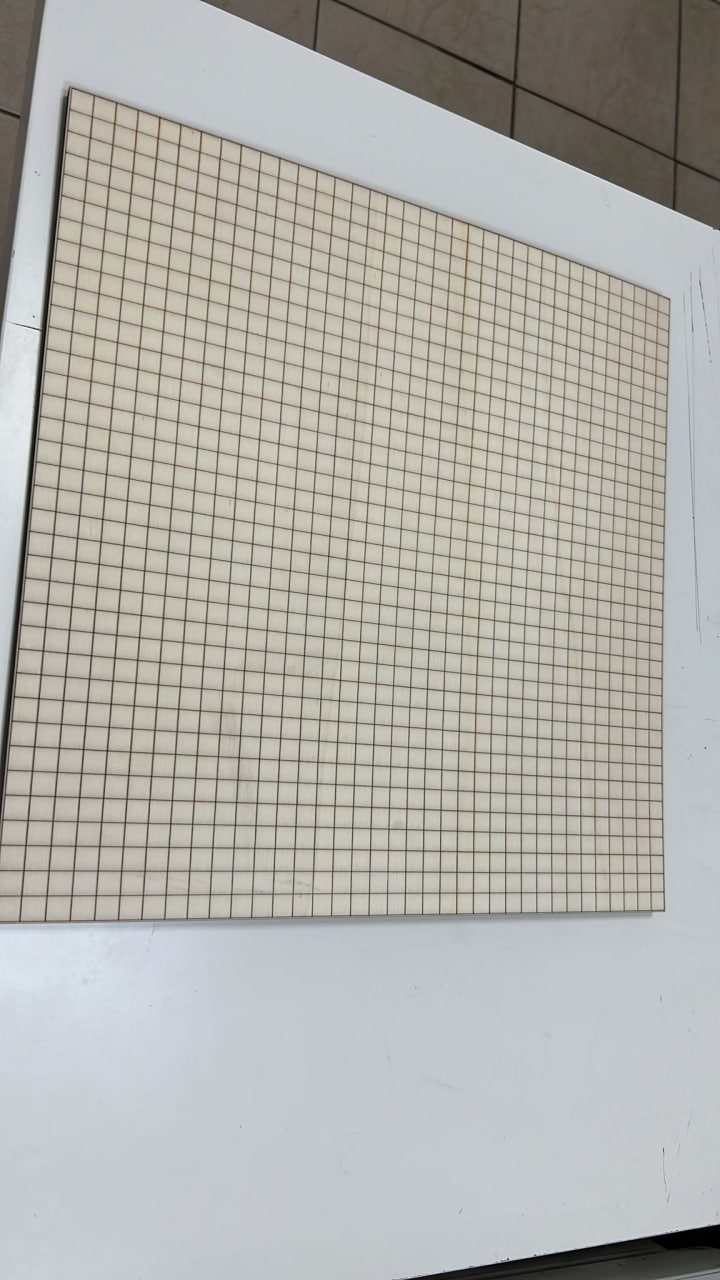grid: (1, 80, 695, 952)
